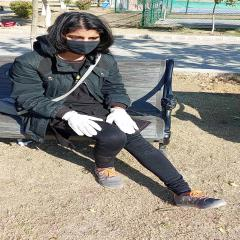gloved: (63, 110, 100, 138), (109, 107, 139, 135)
